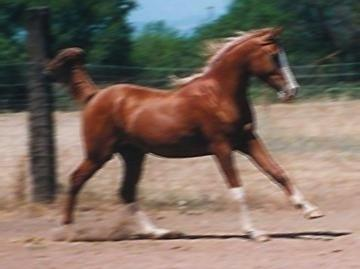horse: (42, 23, 322, 241)
